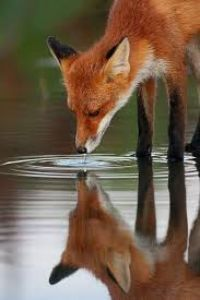fox: (45, 4, 193, 153)
